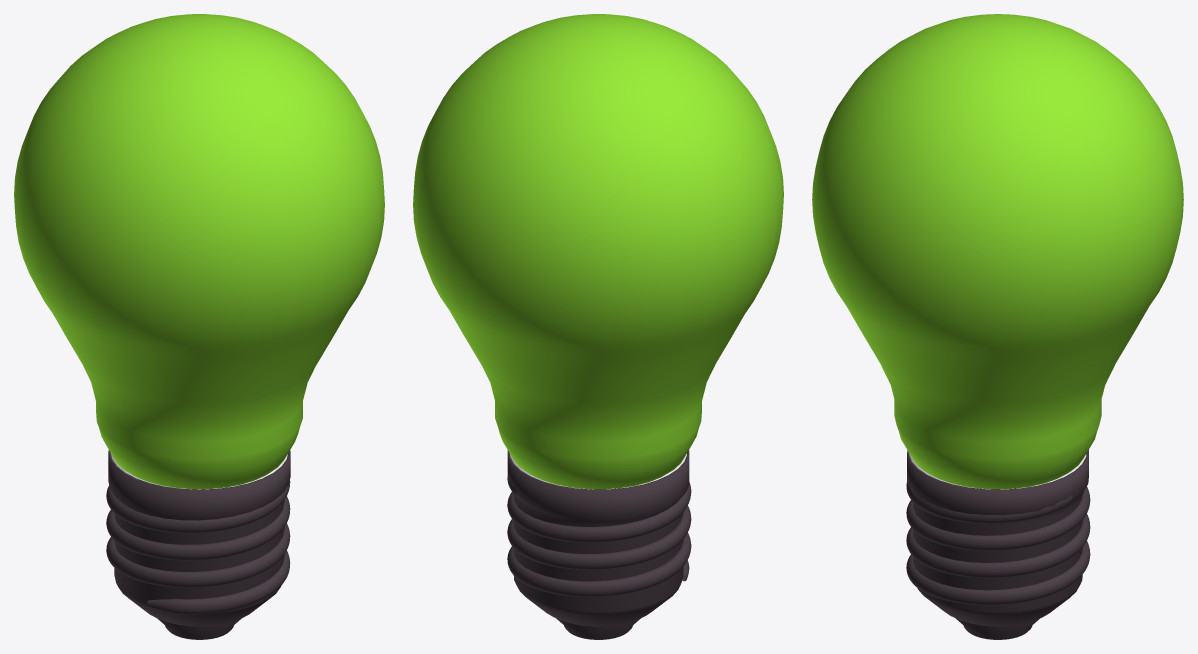
Rendered from light.gltf.
3 renders of one model, left to right at view 1: azimuth 30°, elevation 25°; view 2: azimuth 150°, elevation 25°; view 3: azimuth 270°, elevation 25°, orthographic.
Parts seen in each view (by area): view 1: bulb; view 2: bulb; view 3: bulb.
Boxes of the visible parts, x1,y1,x2,y2 form: bulb: [14, 14, 384, 639]; bulb: [413, 14, 783, 639]; bulb: [812, 14, 1183, 639].
Bounding box in the file's own units: 1.32 × 2.35 × 1.32.
